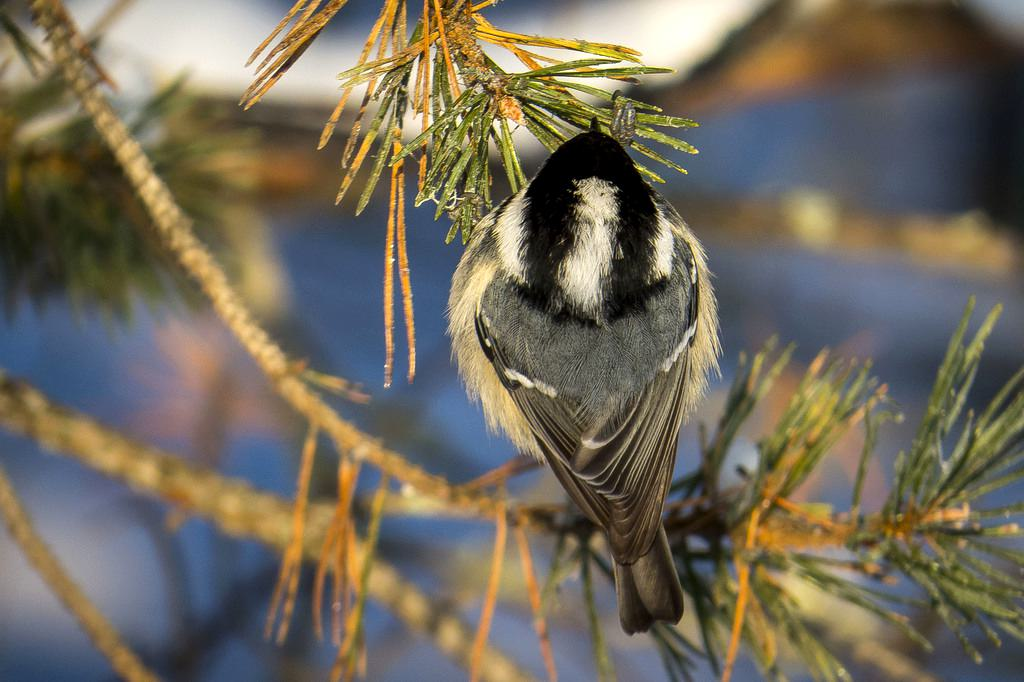PeriparusAter: (446, 115, 720, 638)
